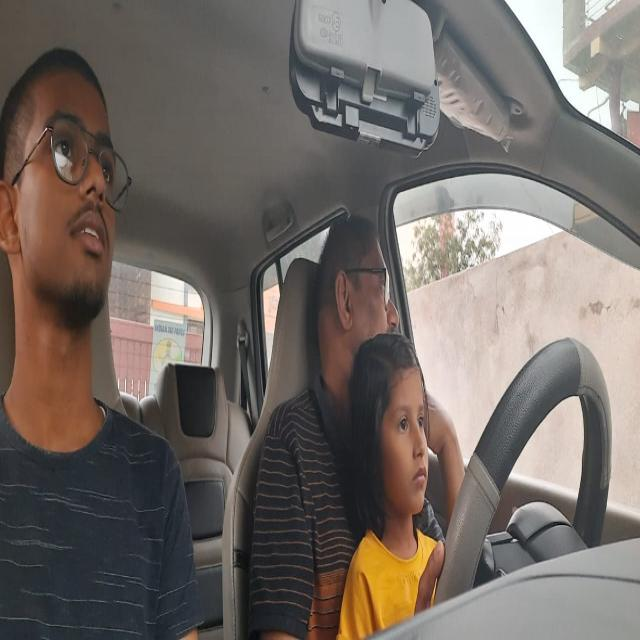child: (350, 313, 435, 520)
person: (0, 37, 137, 364), (312, 195, 408, 369)
